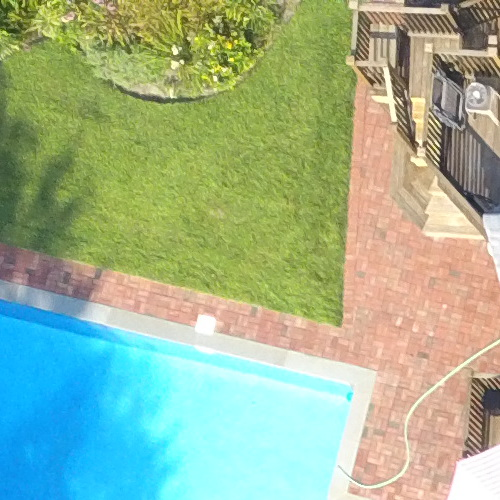porch: (338, 1, 499, 265)
